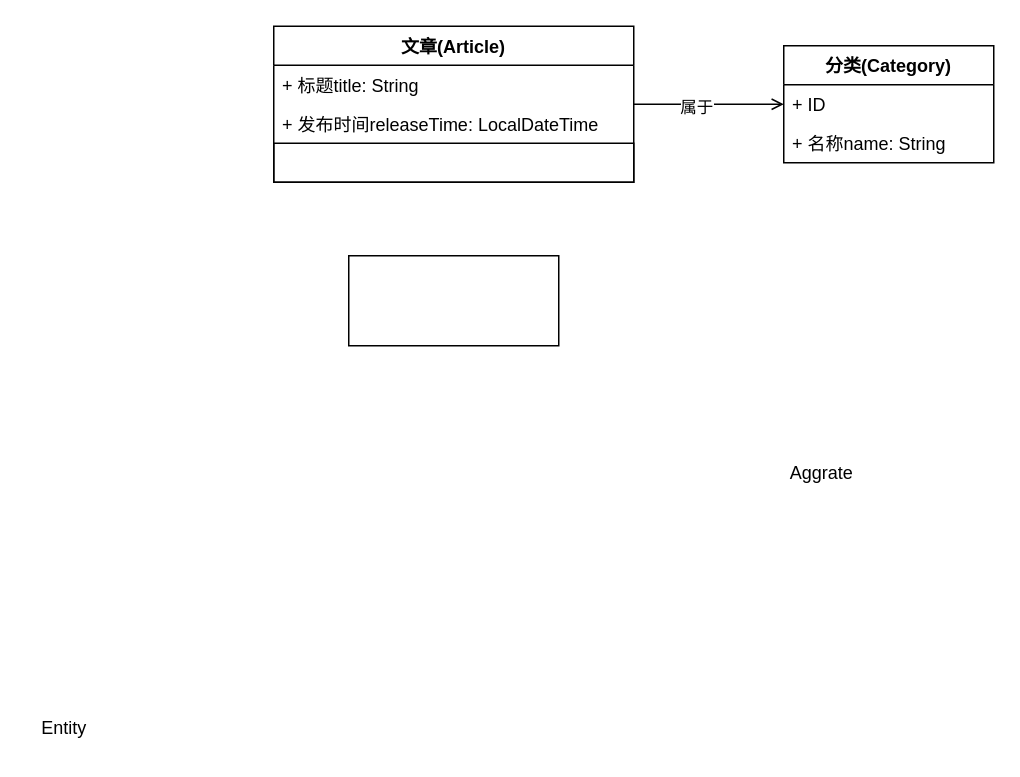
Some shapes in this 1020 by 777 pixel diagram are drawn without their labels. The centre of each missing label's shape, as x and y in pixels:
+ save(): pixel 453 162
ArticleRepos: pixel 453 300
